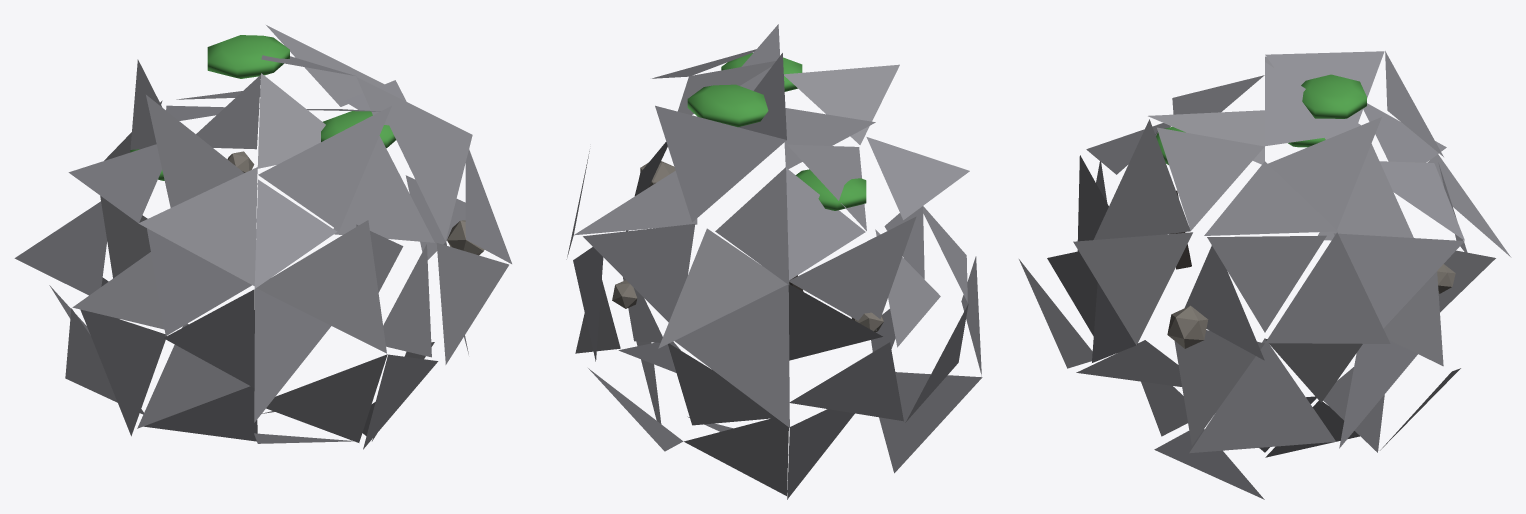
Rendered from rockA.glb.
3 views of the same model, side by side, from view 1: azimuth 30°, elevation 25°; view 2: azimuth 150°, elevation 25°; view 3: azimuth 270°, elevation 25° (orthographic). The views are drawn at different scales.
Size of the model in its own units: 2.07 by 2.05 by 2.24.
